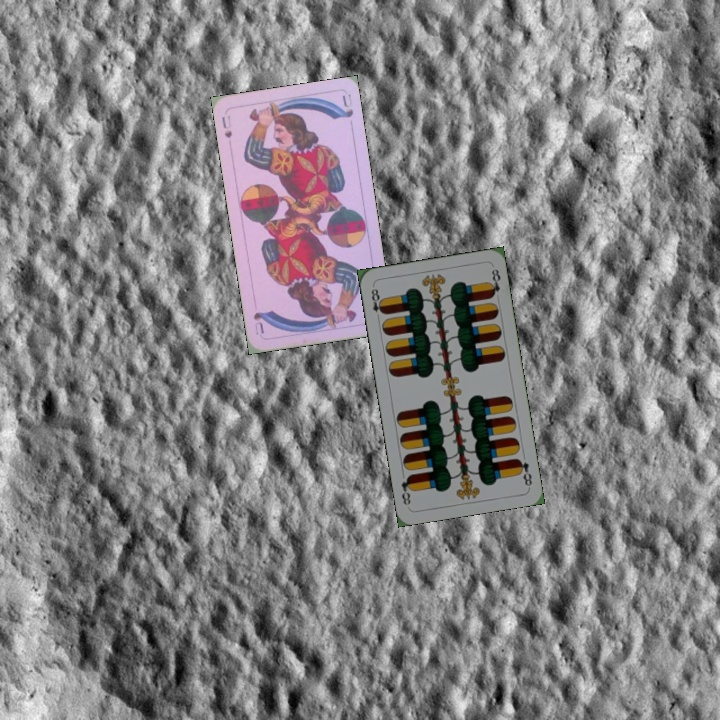E8: (367, 284, 387, 323), (513, 455, 535, 488)
SU: (218, 111, 234, 140)
